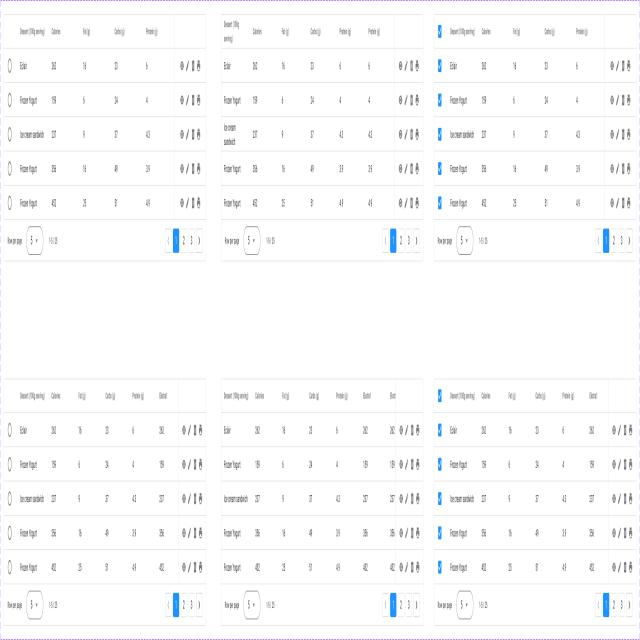VDataTable: (220, 12, 424, 264), (433, 12, 637, 264), (220, 376, 424, 628), (433, 376, 637, 628), (3, 12, 206, 265), (3, 377, 207, 628)
